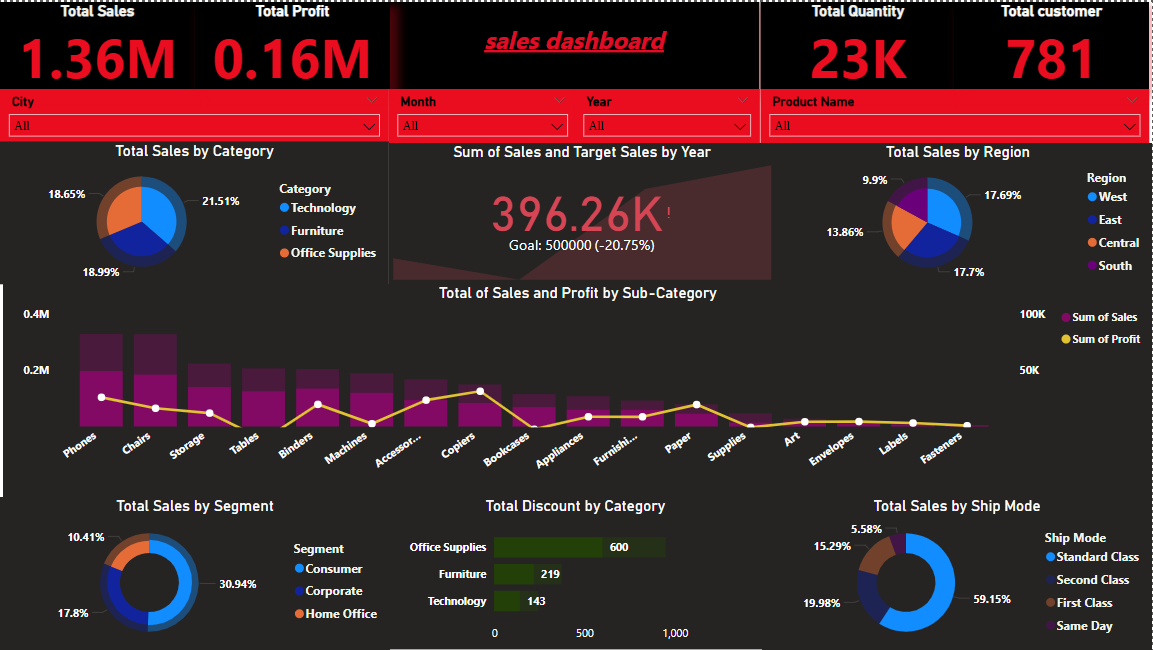

The dashboard page shown, as its layout file describes it:
{"tool":"powerbi","page":{"name":"Page 1","canvas":[1280,720],"ordinal":0},"visuals":[{"type":"textbox","box":[432.3,0,412.3,96.9],"z":0},{"type":"slicer","fields":{"Values":["Sales Overview Data xlsx - Sales Data.City"]},"box":[0,96.9,432.3,60],"z":1000},{"type":"slicer","fields":{"Values":["Sales Overview Data xlsx - Sales Data.Product Name"]},"box":[844.6,96.9,432.3,60],"z":2000},{"type":"slicer","fields":{"Values":["Sales Overview Data xlsx - Sales Data.Order Date.Variation.Date Hierarchy.Month"]},"box":[432.3,96.9,209.2,60],"z":3000},{"type":"slicer","fields":{"Values":["Sales Overview Data xlsx - Sales Data.Order Date.Variation.Date Hierarchy.Year"]},"box":[638.5,96.9,206.2,60],"z":4000},{"type":"card","title":"Total Sales","fields":{"Values":["Sum(Sales Overview Data xlsx - Sales Data.Sales)"]},"box":[0,0,216.9,96.9],"z":5000},{"type":"card","title":"Total Profit","fields":{"Values":["Sum(Sales Overview Data xlsx - Sales Data.Profit)"]},"box":[216.9,0,216.9,96.9],"z":6000},{"type":"card","title":"Total Quantity ","fields":{"Values":["Sum(Sales Overview Data xlsx - Sales Data.Quantity)"]},"box":[844.6,0,216.9,96.9],"z":7000},{"type":"card","title":"Total customer","fields":{"Values":["Count(Sales Overview Data xlsx - Sales Data.Customer ID)"]},"box":[1060,0,216.9,96.9],"z":8000},{"type":"pieChart","title":"Total Sales by Category","fields":{"Y":["Sum(Sales Overview Data xlsx - Sales Data.Sales)"],"Category":["Sales Overview Data xlsx - Sales Data.Category"]},"box":[0,155.4,432.3,158.5],"z":9000},{"type":"pieChart","title":"Total Sales by Region","fields":{"Y":["Sum(Sales Overview Data xlsx - Sales Data.Sales)"],"Category":["Sales Overview Data xlsx - Sales Data.Region"]},"box":[847.7,156.9,432.3,156.9],"z":10000},{"type":"donutChart","title":"Total  Sales by Segment","fields":{"Y":["Sum(Sales Overview Data xlsx - Sales Data.Sales)"],"Category":["Sales Overview Data xlsx - Sales Data.Segment"]},"box":[0,550,433.3,170],"z":11000},{"type":"donutChart","title":"Total Sales by Ship Mode","fields":{"Y":["Sum(Sales Overview Data xlsx - Sales Data.Sales)"],"Category":["Sales Overview Data xlsx - Sales Data.Ship Mode"]},"box":[846.7,550,433.3,170],"z":12000},{"type":"lineClusteredColumnComboChart","title":"Total of Sales and Profit by Sub-Category","fields":{"Y":["Sum(Sales Overview Data xlsx - Sales Data.Sales)"],"Category":["Sales Overview Data xlsx - Sales Data.Sub-Category"],"Y2":["Sum(Sales Overview Data xlsx - Sales Data.Profit)"]},"box":[3,313.4,1277.6,237.3],"z":13000},{"type":"clusteredBarChart","title":"Total Discount by Category","fields":{"Y":["Sum(Sales Overview Data xlsx - Sales Data.Discount)"],"Category":["Sales Overview Data xlsx - Sales Data.Category"]},"box":[432.3,550.8,415.4,169.2],"z":14000},{"type":"kpi","fields":{"Indicator":["Sum(Sales Overview Data xlsx - Sales Data.Sales)"],"Goal":["Sales Overview Data xlsx - Sales Data.Target Sales"],"TrendLine":["Sales Overview Data xlsx - Sales Data.Order Date.Variation.Date Hierarchy.Year"]},"box":[431.7,156.7,430,156.7],"z":15000}]}

Visuals, with their boxes in screenshot pixels (x1, y1, x2, y2), scaled from the page's 1280x720 canvas onto the 1153x650 screenshot:
textbox: [389,0,761,87]
slicer - Sales Overview Data xlsx - Sales Data.City: [0,87,389,142]
slicer - Sales Overview Data xlsx - Sales Data.Product Name: [761,87,1150,142]
slicer - Sales Overview Data xlsx - Sales Data.Order Date.Variation.Date Hierarchy.Month: [389,87,578,142]
slicer - Sales Overview Data xlsx - Sales Data.Order Date.Variation.Date Hierarchy.Year: [575,87,761,142]
"Total Sales" card: [0,0,195,87]
"Total Profit" card: [195,0,391,87]
"Total Quantity " card: [761,0,956,87]
"Total customer" card: [955,0,1150,87]
"Total Sales by Category" pieChart: [0,140,389,283]
"Total Sales by Region" pieChart: [764,142,1152,283]
"Total  Sales by Segment" donutChart: [0,497,390,649]
"Total Sales by Ship Mode" donutChart: [763,497,1152,649]
"Total of Sales and Profit by Sub-Category" lineClusteredColumnComboChart: [3,283,1152,497]
"Total Discount by Category" clusteredBarChart: [389,497,764,649]
kpi - Sum(Sales Overview Data xlsx - Sales Data.Sales) x Sales Overview Data xlsx - Sales Data.Target Sales: [389,141,776,283]
